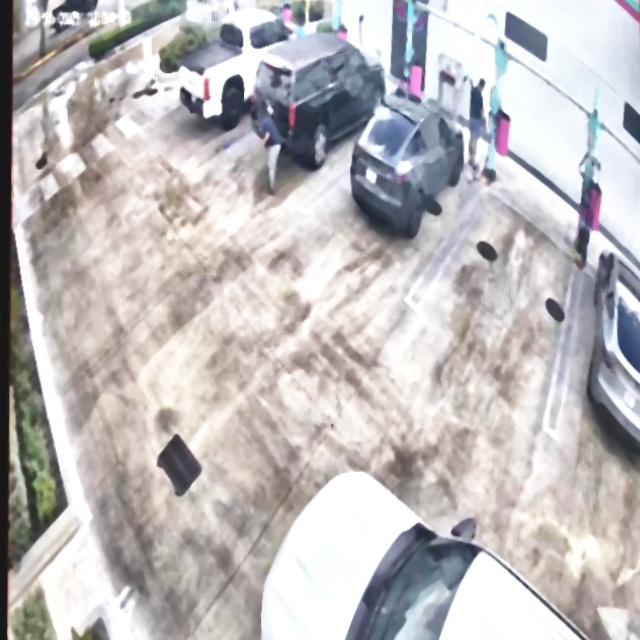Car: (351, 89, 466, 236)
